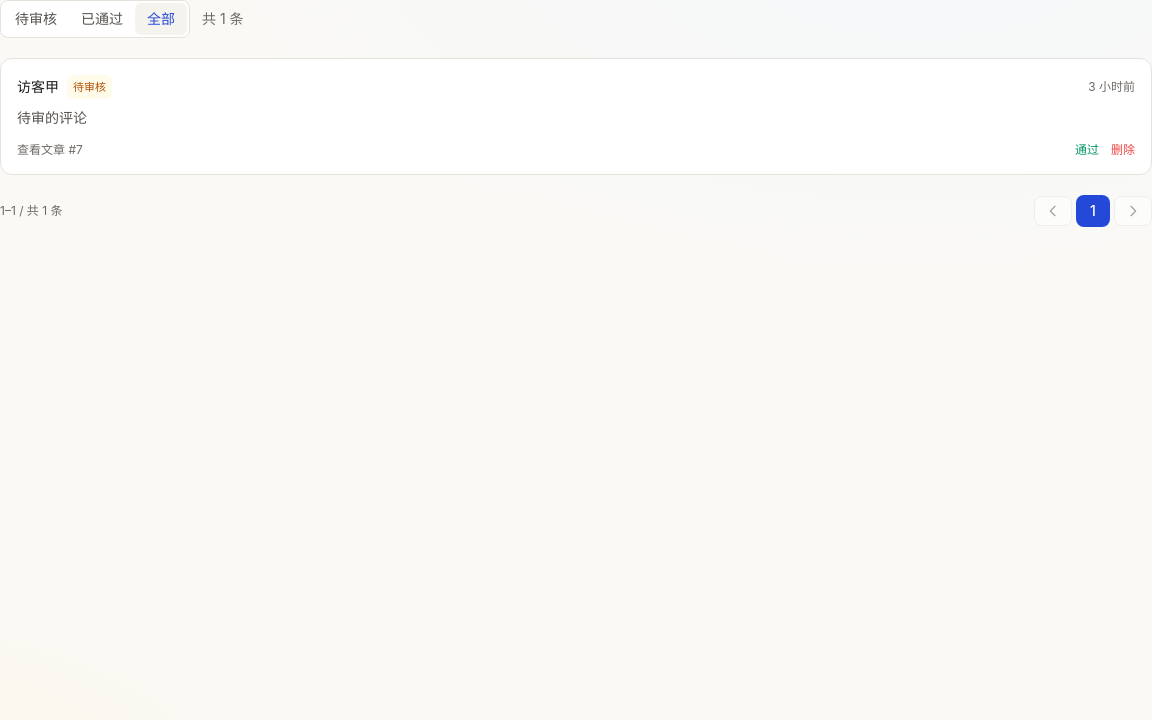
Scenario: CommentListView · 删除 › 点「删除」只打开确认框，一个请求都不发
The width and height of the screenshot is (1152, 720).
Click the button "删除" at (1123, 150), box [1111, 142, 1135, 158]
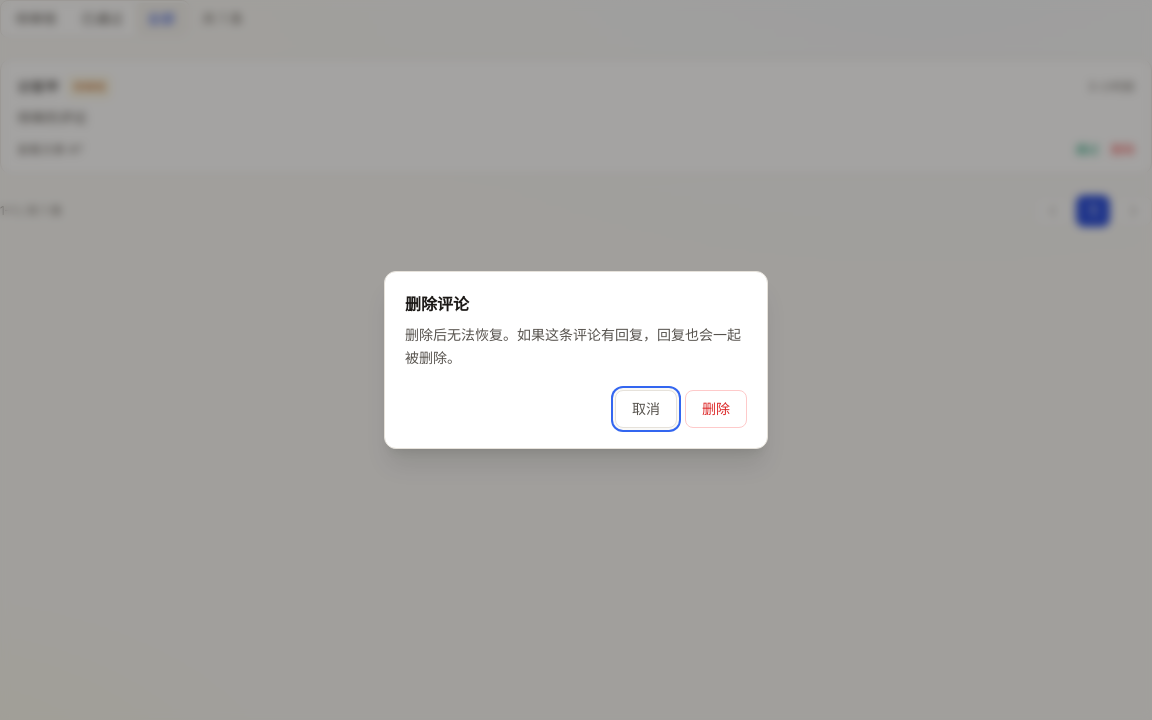
Check: the dialog shows "删除后无法恢复", box [405, 326, 741, 366]
Check: the dialog shows "回复也会一起被删除", box [405, 326, 741, 366]
